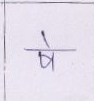e_matra: (41, 30, 54, 48)
